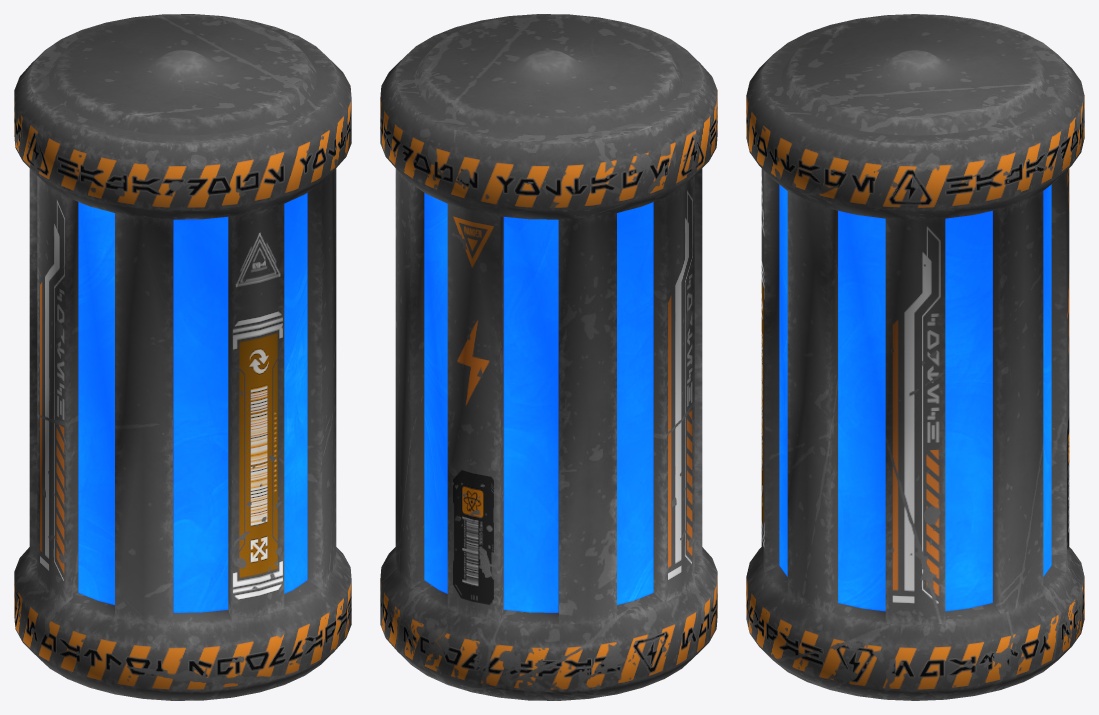
File: power_core.glb
3 views of the same model, side by side, from view 1: azimuth 30°, elevation 25°; view 2: azimuth 150°, elevation 25°; view 3: azimuth 270°, elevation 25° (orthographic).
Parts seen in each view (by area): view 1: EV Power Cell; view 2: EV Power Cell; view 3: EV Power Cell.
Part boxes in pixels (box(x1,y1,x2,y2)): EV Power Cell: box(14, 14, 351, 700); EV Power Cell: box(380, 14, 717, 700); EV Power Cell: box(746, 14, 1084, 700).
Bounding box in the file's own units: 2.2 × 4.29 × 2.2.
1 material, 1 textured.
